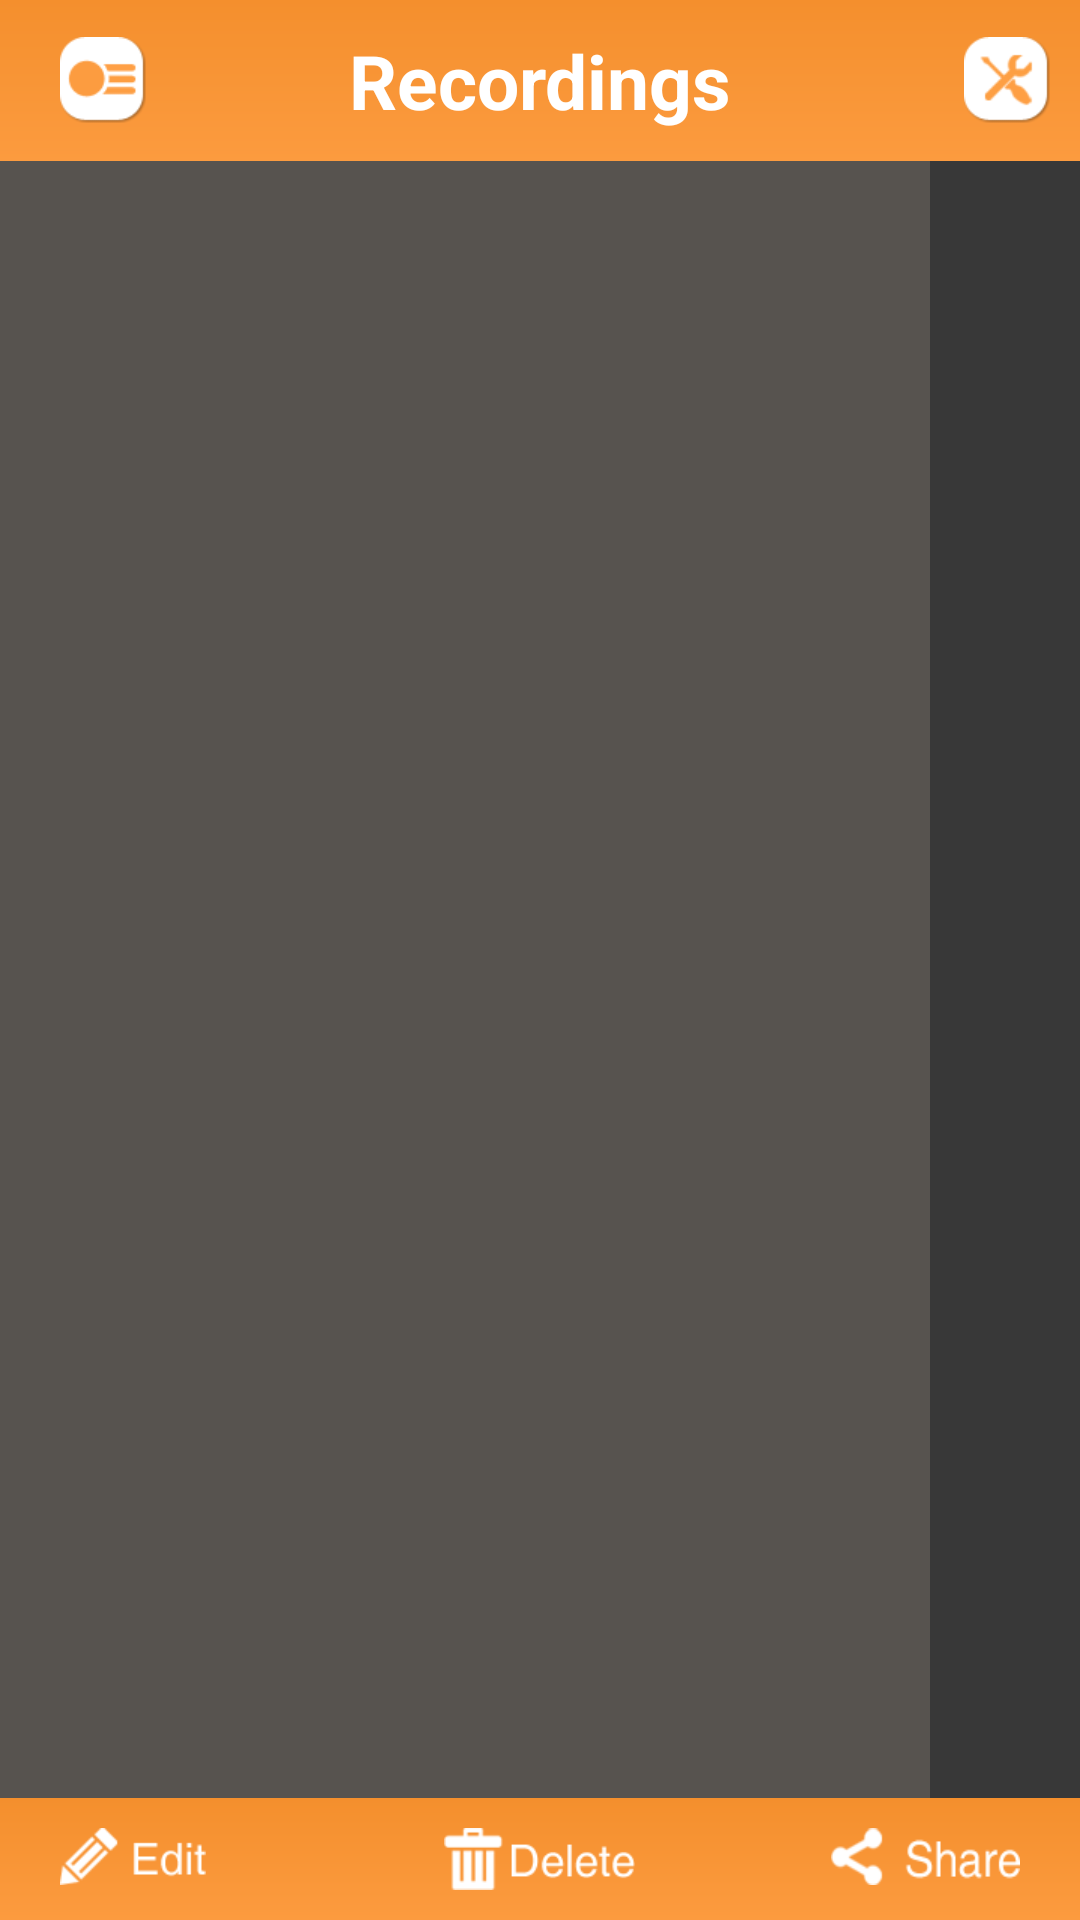

Icon bounding boxes for this 1080 × 1920 phone screenshot, format (x1, y1, x2, y2):
listview: (60, 37, 145, 122)
settings: (964, 37, 1049, 122)
